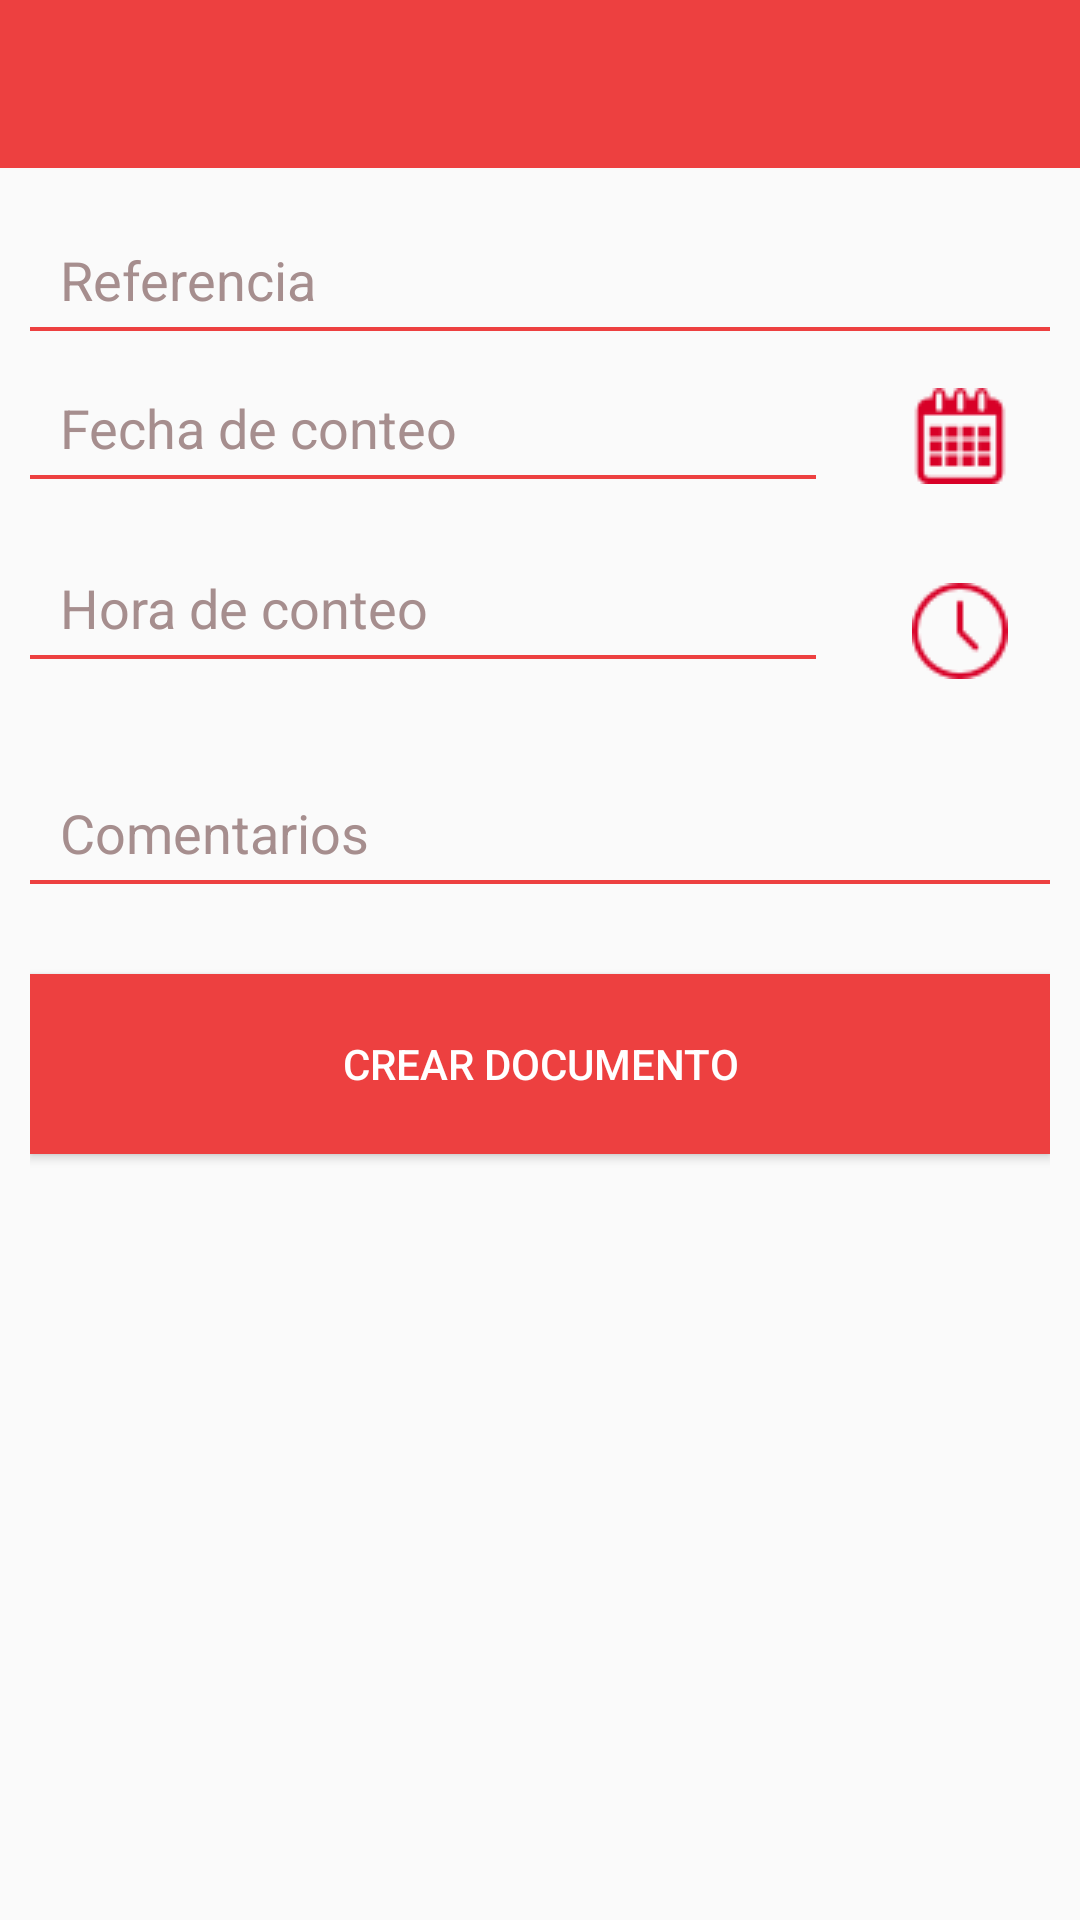

Screen size 1080px x 1920px. Icon name, then its center in pixels as (x=x, y=y):
clock: (x=960, y=631)
date: (x=960, y=436)
